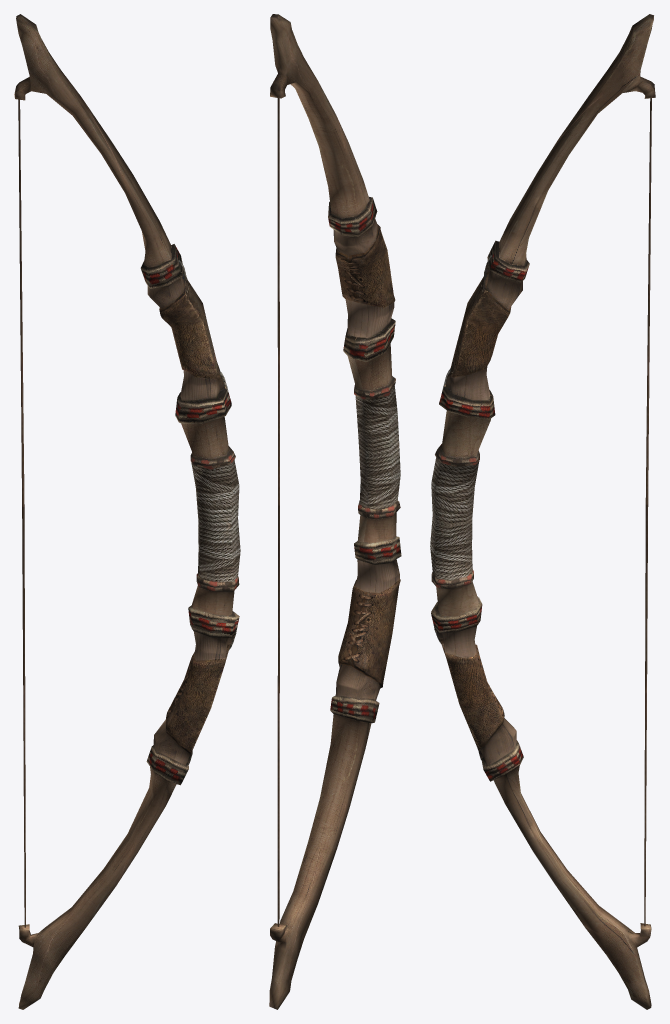
The model's file is Bow.obj.
3 renders of one model, left to right at view 1: azimuth 90°, elevation 25°; view 2: azimuth 150°, elevation 25°; view 3: azimuth 270°, elevation 25°, orthographic.
Bounding box in the file's own units: 0.1164 × 2.51 × 0.5169.
Materials: 1 (1 with a texture image).
